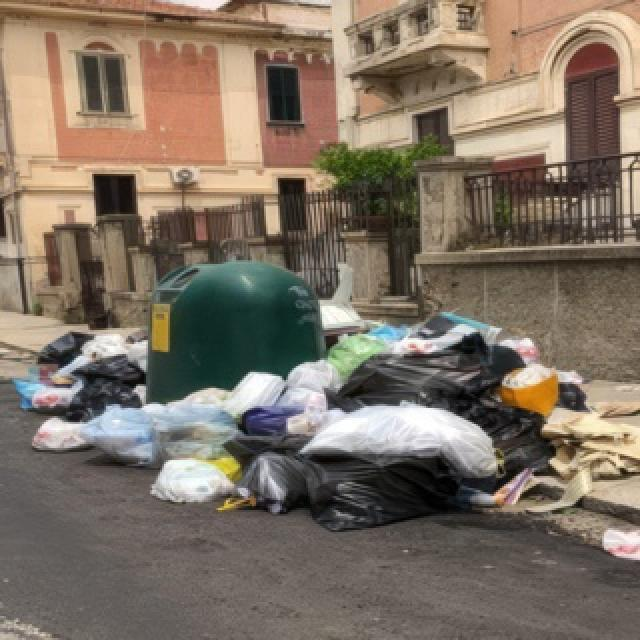Trashbag: (348, 351, 556, 474), (307, 452, 446, 530), (227, 433, 321, 522), (70, 375, 140, 424), (35, 329, 94, 367), (83, 355, 147, 384)
